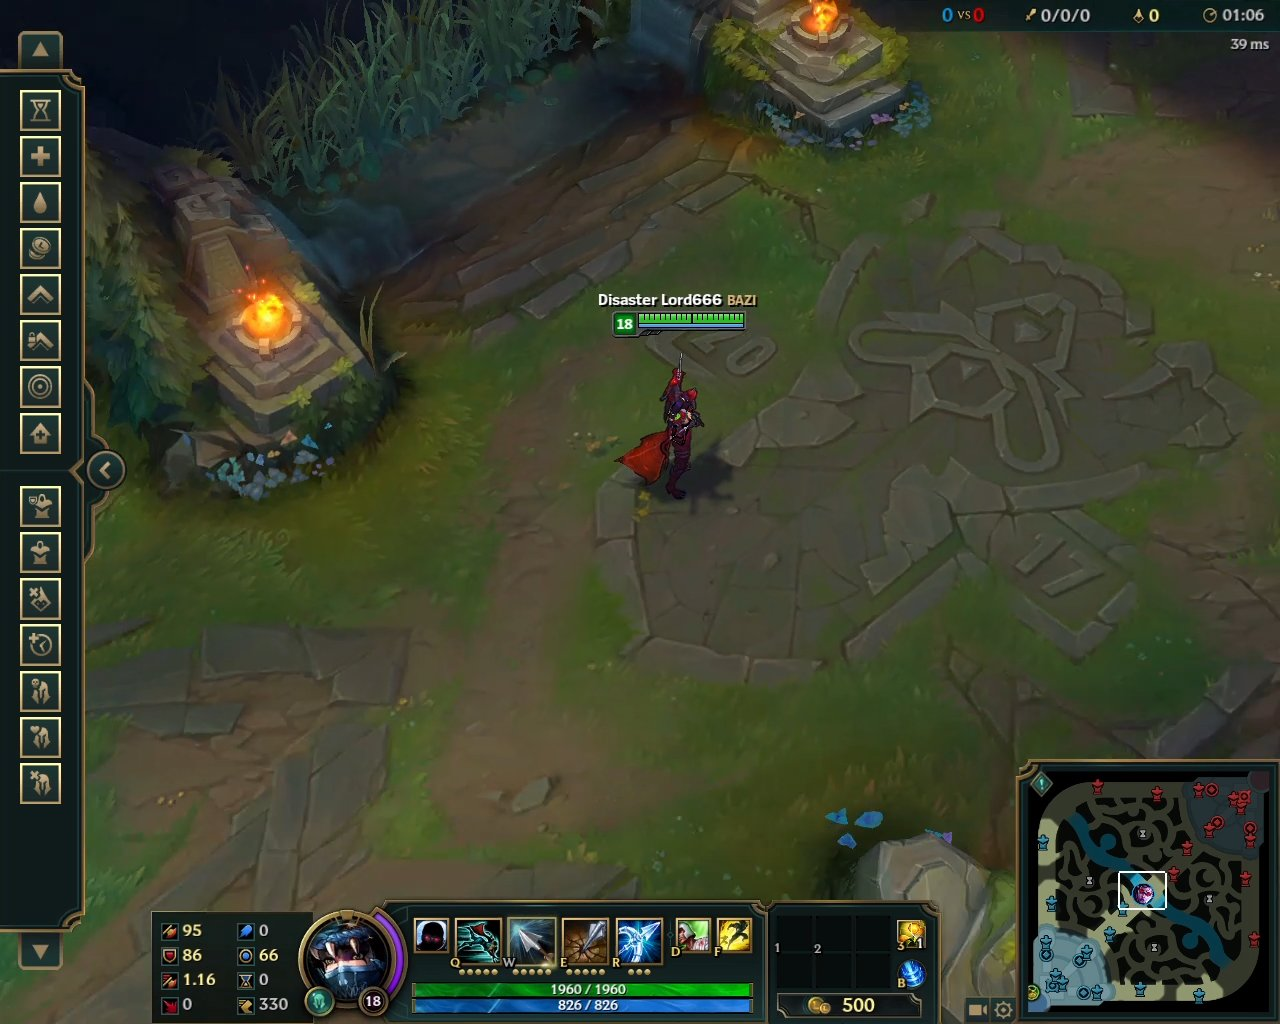Vayne: (611, 349, 709, 506)
